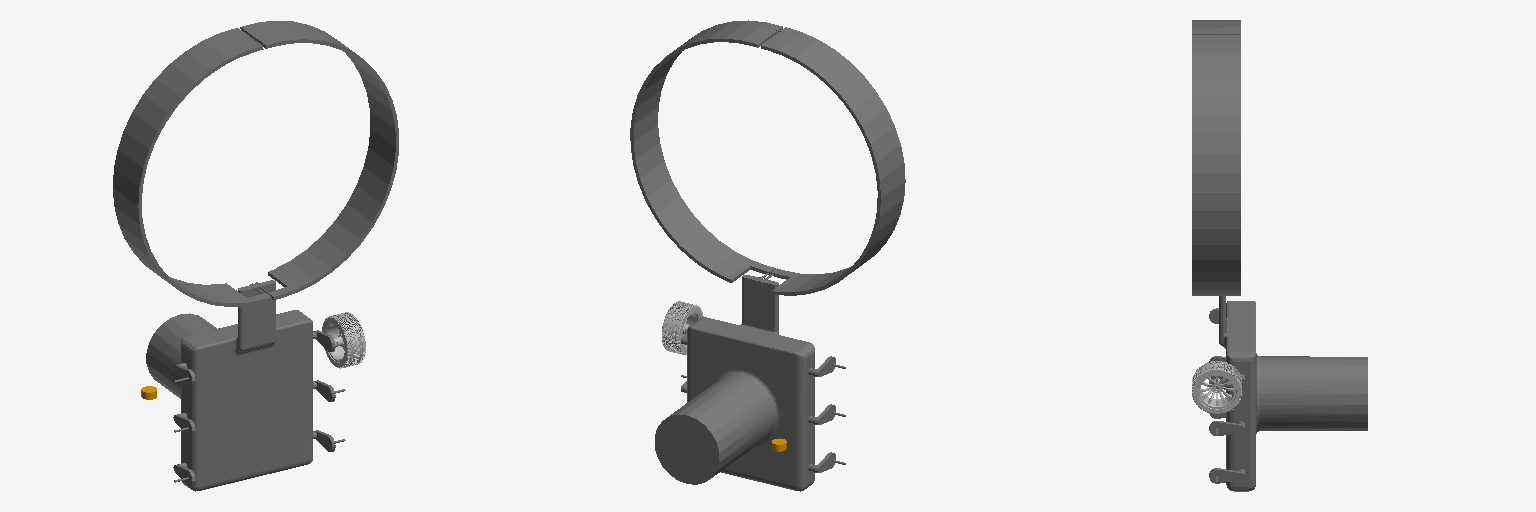
The robot description file, URDF, robot "ballpicker":
<?xml version="1.0" encoding="utf-8"?>
<!-- This URDF was automatically created by SolidWorks to URDF Exporter! Originally created by [author] ([email redacted]) 
     Commit Version: 1.6.0-4-g7f85cfe  Build Version: 1.6.7995.38578
     For more information, please see http://wiki.ros.org/sw_urdf_exporter -->
<robot
  name="ballpicker">
  <link name="base_footprint">
    <visual>
      <geometry>
        <cylinder length="0.01" radius="0.01"/>
      </geometry>
    </visual>
  </link>
  <link
    name="Car_link">
    <inertial>
      <origin
        xyz="0.0 0.0 0.00553332226051508"
        rpy="0 0 0" />
      <mass
        value="5.0" />
      <inertia
        ixx="0.110749906707375"
        ixy="-1.75365410957896E-07"
        ixz="7.93049790205434E-09"
        iyy="0.0835173634719432"
        iyz="0.00145400864608235"
        izz="0.0979369174058086" />
    </inertial>
    <visual>
      <origin
        xyz="0 0 0"
        rpy="0 0 0" />
      <geometry>
        <mesh
          filename="package://ballpicker/meshes/Car_link.STL" />
      </geometry>
      <material
        name="">
        <color
          rgba="0.498039215686275 0.498039215686275 0.498039215686275 1" />
      </material>
    </visual>
    <collision>
      <origin
        xyz="0 0 0"
        rpy="0 0 0" />
      <geometry>
        <mesh
          filename="package://ballpicker/meshes/Car_link.STL" />
      </geometry>
    </collision>
  </link>
  <joint name="base_to_car" type="fixed">
    <origin xyz="0 -0.09 0" rpy="0 0 0"/>
    <parent link="base_footprint"/>
    <child link="Car_link"/>
  </joint>
  <link
    name="LF_Wheel">
    <inertial>
      <origin
        xyz="-0.00153990775115265 4.84133740041859E-10 6.48850088241781E-10"
        rpy="0 0 0" />
      <mass
        value="0.0351748276981348" />
      <inertia
        ixx="2.57858861550238E-05"
        ixy="5.38669622852653E-14"
        ixz="5.95956619934724E-14"
        iyy="1.52375713168355E-05"
        iyz="-2.31104481825362E-10"
        izz="1.5236691208538E-05" />
    </inertial>
    <visual>
      <origin
        xyz="0 0 0"
        rpy="0 0 0" />
      <geometry>
        <mesh
          filename="package://ballpicker/meshes/LF_Wheel.STL" />
      </geometry>
      <material
        name="">
        <color
          rgba="0.752941176470588 0.752941176470588 0.752941176470588 1" />
      </material>
    </visual>
    <collision>
      <origin
        xyz="0 0 0"
        rpy="0 0 0" />
      <geometry>
        <mesh
          filename="package://ballpicker/meshes/LF_Wheel.STL" />
      </geometry>
    </collision>
  </link>
  <joint
    name="LF_Wheel_Cont"
    type="continuous">
    <origin
      xyz="0.21777 -0.029518 0.071531"
      rpy="0 0 0" />
    <parent
      link="Car_link" />
    <child
      link="LF_Wheel" />
    <axis
      xyz="1 0 0" />
  </joint>
  <!-- 
  <link
    name="LM_Wheel">
    <inertial>
      <origin
        xyz="-0.00153990775115259 4.84133802491904E-10 6.48850057016759E-10"
        rpy="0 0 0" />
      <mass
        value="0.0351748276981348" />
      <inertia
        ixx="2.57858861550239E-05"
        ixy="5.38669741639358E-14"
        ixz="5.9595642988137E-14"
        iyy="1.52375713168356E-05"
        iyz="-2.31104481826999E-10"
        izz="1.5236691208538E-05" />
    </inertial>
    <visual>
      <origin
        xyz="0 0 0"
        rpy="0 0 0" />
      <geometry>
        <mesh
          filename="package://ballpicker/meshes/LM_Wheel.STL" />
      </geometry>
      <material
        name="">
        <color
          rgba="0.752941176470588 0.752941176470588 0.752941176470588 1" />
      </material>
    </visual>
    <collision>
      <origin
        xyz="0 0 0"
        rpy="0 0 0" />
      <geometry>
        <mesh
          filename="package://ballpicker/meshes/LM_Wheel.STL" />
      </geometry>
    </collision>
  </link>
  <joint
    name="LM_Wheel_Cont"
    type="continuous">
    <origin
      xyz="0.21777 -0.029518 0.0015309"
      rpy="0 0 0" />
    <parent
      link="Car_link" />
    <child
      link="LM_Wheel" />
    <axis
      xyz="1 0 0" />
    <mimic
      joint="LF_Wheel_Cont"
      multiplier="1"
      offset="0" /> 
  </joint>-->
  <link
    name="LB_Wheel">
    <inertial>
      <origin
        xyz="-0.00153990775115259 4.84133726164071E-10 6.48849862727729E-10"
        rpy="0 0 0" />
      <mass
        value="0.0351748276981345" />
      <inertia
        ixx="2.57858861550237E-05"
        ixy="5.38669869547035E-14"
        ixz="5.95956547741387E-14"
        iyy="1.52375713168355E-05"
        iyz="-2.3110448177996E-10"
        izz="1.52366912085378E-05" />
    </inertial>
    <visual>
      <origin
        xyz="0 0 0"
        rpy="0 0 0" />
      <geometry>
        <mesh
          filename="package://ballpicker/meshes/LB_Wheel.STL" />
      </geometry>
      <material
        name="">
        <color
          rgba="0.752941176470588 0.752941176470588 0.752941176470588 1" />
      </material>
    </visual>
    <collision>
      <origin
        xyz="0 0 0"
        rpy="0 0 0" />
      <geometry>
        <mesh
          filename="package://ballpicker/meshes/LB_Wheel.STL" />
      </geometry>
    </collision>
  </link>
  <joint
    name="LB_Wheel_Cont"
    type="continuous">
    <origin
      xyz="0.21777 -0.029518 -0.068469"
      rpy="0 0 0" />
    <parent
      link="Car_link" />
    <child
      link="LB_Wheel" />
    <axis
      xyz="1 0 0" />
    <mimic
      joint="LF_Wheel_Cont"
      multiplier="1"
      offset="0" />
  </joint>
  <link
    name="RF_Wheel">
    <inertial>
      <origin
        xyz="0.00153990775115213 -6.83017375296968E-10 4.1886908525024E-10"
        rpy="0 0 0" />
      <mass
        value="0.0351748276980535" />
      <inertia
        ixx="2.57858861550147E-05"
        ixy="7.86864505417938E-14"
        ixz="-3.65804412588572E-14"
        iyy="1.52373068430096E-05"
        iyz="4.65003743546124E-10"
        izz="1.52369556823478E-05" />
    </inertial>
    <visual>
      <origin
        xyz="0 0 0"
        rpy="0 0 0" />
      <geometry>
        <mesh
          filename="package://ballpicker/meshes/RF_Wheel.STL" />
      </geometry>
      <material
        name="">
        <color
          rgba="0.752941176470588 0.752941176470588 0.752941176470588 1" />
      </material>
    </visual>
    <collision>
      <origin
        xyz="0 0 0"
        rpy="0 0 0" />
      <geometry>
        <mesh
          filename="package://ballpicker/meshes/RF_Wheel.STL" />
      </geometry>
    </collision>
  </link>
  <joint
    name="RF_Wheel_Cont"
    type="continuous">
    <origin
      xyz="-0.03173 -0.029518 0.071531"
      rpy="0 0 0" />
    <parent
      link="Car_link" />
    <child
      link="RF_Wheel" />
    <axis
      xyz="1 0 0" />
  </joint>
  <!-- 
  <link
    name="RM_Wheel">
    <inertial>
      <origin
        xyz="0.00153990775115211 -6.83017403052544E-10 4.18868884022316E-10"
        rpy="0 0 0" />
      <mass
        value="0.0351748276980535" />
      <inertia
        ixx="2.57858861550147E-05"
        ixy="7.86864660113413E-14"
        ixz="-3.6580443692086E-14"
        iyy="1.52373068430096E-05"
        iyz="4.65003743631836E-10"
        izz="1.52369556823478E-05" />
    </inertial>
    <visual>
      <origin
        xyz="0 0 0"
        rpy="0 0 0" />
      <geometry>
        <mesh
          filename="package://ballpicker/meshes/RM_Wheel.STL" />
      </geometry>
      <material
        name="">
        <color
          rgba="0.752941176470588 0.752941176470588 0.752941176470588 1" />
      </material>
    </visual>
    <collision>
      <origin
        xyz="0 0 0"
        rpy="0 0 0" />
      <geometry>
        <mesh
          filename="package://ballpicker/meshes/RM_Wheel.STL" />
      </geometry>
    </collision>
  </link>
  <joint
    name="RM_Wheel_Cont"
    type="continuous">
    <origin
      xyz="-0.03173 -0.029518 0.0015309"
      rpy="0 0 0" />
    <parent
      link="Car_link" />
    <child
      link="RM_Wheel" />
    <axis
      xyz="1 0 0" />
    <mimic
      joint="RF_Wheel_Cont"
      multiplier="1"
      offset="0" />
  </joint> -->
  <link
    name="RB_Wheel">
    <inertial>
      <origin
        xyz="0.00153990775115216 -6.83017496727611E-10 4.18868828511165E-10"
        rpy="0 0 0" />
      <mass
        value="0.0351748276980541" />
      <inertia
        ixx="2.57858861550151E-05"
        ixy="7.8686446012487E-14"
        ixz="-3.65804272639864E-14"
        iyy="1.52373068430098E-05"
        iyz="4.65003743568956E-10"
        izz="1.52369556823481E-05" />
    </inertial>
    <visual>
      <origin
        xyz="0 0 0"
        rpy="0 0 0" />
      <geometry>
        <mesh
          filename="package://ballpicker/meshes/RB_Wheel.STL" />
      </geometry>
      <material
        name="">
        <color
          rgba="0.752941176470588 0.752941176470588 0.752941176470588 1" />
      </material>
    </visual>
    <collision>
      <origin
        xyz="0 0 0"
        rpy="0 0 0" />
      <geometry>
        <mesh
          filename="package://ballpicker/meshes/RB_Wheel.STL" />
      </geometry>
    </collision>
  </link>
  <joint
    name="RB_Wheel_Cont"
    type="continuous">
    <origin
      xyz="-0.03173 -0.029518 -0.068469"
      rpy="0 0 0" />
    <parent
      link="Car_link" />
    <child
      link="RB_Wheel" />
    <axis
      xyz="1 0 0" />
    <mimic
      joint="RF_Wheel_Cont"
      multiplier="1"
      offset="0" />
  </joint>
  <gazebo reference="RB_Wheel">
            <mu1>0.0</mu1>
            <mu2>0</mu2>
            <kp>10000000.0</kp>
            <kd>10.0</kd>
            <fdir1>0 0.0 1.0</fdir1>
          <dynamics damping="0.7" friction="0" />  
            <slip1>0</slip1>
            <slip2>0</slip2>
            
  </gazebo>
  <gazebo reference="RF_Wheel">
            <mu1>1.0</mu1>
            <mu2>0.5</mu2>
            <kp>10000000.0</kp>
            <kd>10.0</kd>
            <fdir1>0 0.0 1.0</fdir1>
          <dynamics damping="0.7" friction="10.0" />
            <slip1>0</slip1>
            <slip2>0</slip2>
            
  </gazebo>
  <gazebo reference="LB_Wheel">
            <mu1>0.0</mu1>
            <mu2>0</mu2>
            <kp>10000000.0</kp>
            <kd>10.0</kd>
            <fdir1>0 0.0 1.0</fdir1>
          <dynamics damping="0.7" friction="0" />  
            <slip1>0</slip1>
            <slip2>0</slip2>
            
  </gazebo>
  <gazebo reference="LF_Wheel">
            <mu1>1.0</mu1>
            <mu2>0.5</mu2>
            <kp>10000000.0</kp>
            <kd>10.0</kd>
            <fdir1>0 0.0 1.0</fdir1>
          <dynamics damping="0.7" friction="100.0" /> 
            <slip1>0</slip1>
            <slip2>0</slip2>
            
  </gazebo>
  <link
    name="Claw_Right">
    <inertial>
      <origin
        xyz="-0.127197064731162 -0.0158052215751697 0.179817108241744"
        rpy="0 0 0" />
      <mass
        value="0.234822404065573" />
      <inertia
        ixx="0.00376947183179376"
        ixy="8.23160335735902E-06"
        ixz="-6.43273841267378E-05"
        iyy="0.00439057756261837"
        iyz="-1.2742343183228E-05"
        izz="0.000787891659954531" />
    </inertial>
    <visual>
      <origin
        xyz="0 0 0"
        rpy="0 0 0" />
      <geometry>
        <mesh
          filename="package://ballpicker/meshes/Claw_Right.STL" />
      </geometry>
      <material
        name="">
        <color
          rgba="0.498039215686275 0.498039215686275 0.498039215686275 1" />
      </material>
    </visual>
    <collision>
      <origin
        xyz="0 0 0"
        rpy="0 0 0" />
      <geometry>
        <mesh
          filename="package://ballpicker/meshes/Claw_Right.STL" />
      </geometry>
    </collision>
  </link>
  <joint
    name="Claw_Right_J"
    type="revolute">
    <origin
      xyz="0.08952 -0.015018 0.17203"
      rpy="0 0 0" />
    <parent
      link="Car_link" />
    <child
      link="Claw_Right" />
    <axis
      xyz="0 1 0" />
    <limit
      lower="-3.14"
      upper="3.14"
      effort="1000"
      velocity="1" />
  </joint>
  <link
    name="Claw_Left">
    <inertial>
      <origin
        xyz="0.114626073328396 -0.0158052215751698 0.188080166434317"
        rpy="0 0 0" />
      <mass
        value="0.234822404065573" />
      <inertia
        ixx="0.00374681789269306"
        ixy="-7.34261156340594E-06"
        ixz="0.000266775836666619"
        iyy="0.0043905775626186"
        iyz="-1.32745116317314E-05"
        izz="0.000810545599055451" />
    </inertial>
    <visual>
      <origin
        xyz="0 0 0"
        rpy="0 0 0" />
      <geometry>
        <mesh
          filename="package://ballpicker/meshes/Claw_Left.STL" />
      </geometry>
      <material
        name="">
        <color
          rgba="0.498039215686275 0.498039215686275 0.498039215686275 1" />
      </material>
    </visual>
    <collision>
      <origin
        xyz="0 0 0"
        rpy="0 0 0" />
      <geometry>
        <mesh
          filename="package://ballpicker/meshes/Claw_Left.STL" />
      </geometry>
    </collision>
  </link>
  <joint
    name="Claw_Left_J"
    type="revolute">
    <origin
      xyz="0.09652 -0.015018 0.17203"
      rpy="0 0 0" />
    <parent
      link="Car_link" />
    <child
      link="Claw_Left" />
    <axis
      xyz="0 1 0" />
    <limit
      lower="-3.14"
      upper="3.14"
      effort="1000"
      velocity="1" />
  </joint>

  <joint name="hokuyo_joint" type="fixed">
    <axis xyz="0 0 1" />
    <origin xyz="0.1 0.01 0" rpy="-1.57 0 0"/>
    <parent link="Car_link"/>
    <child link="hokuyo_link"/>
  </joint>

  <!-- Hokuyo Laser -->
  <link name="hokuyo_link">
    <collision>
      <origin xyz="0 0 0" rpy="0 0 0"/>
      <geometry>
    <box size="0.1 0.1 0.1"/>
      </geometry>
    </collision>

    <visual>
      <origin xyz="0 0 0" rpy="0 0 0"/>
      <geometry>
        <mesh filename="package://ballpicker/meshes/hokuyo.dae"/>
      </geometry>
    </visual>

    <inertial>
      <mass value="1e-5" />
      <origin xyz="0 0 0" rpy="0 0 0"/>
      <inertia ixx="1e-6" ixy="0" ixz="0" iyy="1e-6" iyz="0" izz="1e-6" />
    </inertial>
  </link>
  <gazebo reference="hokuyo_link">
    <sensor type="ray" name="head_hokuyo_sensor">
      <pose>0 0 0 0 0 0</pose>
      <visualize>true</visualize>
      <update_rate>40</update_rate>
      <ray>
        <scan>
          <horizontal>
            <samples>720</samples>
            <resolution>1</resolution>
            <min_angle>-3.14159</min_angle>
            <max_angle>3.14159</max_angle>
          </horizontal>
        </scan>
        <range>
          <min>0.2</min>
          <max>40</max>
          <resolution>0.025</resolution>
        </range>
        <noise>
          <type>gaussian</type>
          <!-- Noise parameters based on published spec for Hokuyo laser
               achieving "+-30mm" accuracy at range < 10m.  A mean of 0.0m and
               stddev of 0.01m will put 99.7% of samples within 0.03m of the true
               reading. -->
          <mean>0.0</mean>
          <stddev>0.00</stddev>
        </noise>
      </ray>
      <plugin name="gazebo_ros_head_hokuyo_controller" filename="libgazebo_ros_laser.so">
        <topicName>laser_scan</topicName>
        <frameName>hokuyo_link</frameName>
      </plugin>
    </sensor>
  </gazebo>

  <gazebo>
    <plugin name="skid_steer_drive_controller" filename="libgazebo_ros_skid_steer_drive.so">
      <updateRate>100.0</updateRate>
      <robotNamespace>/</robotNamespace>
      <leftFrontJoint>LF_Wheel_Cont</leftFrontJoint>
      <rightFrontJoint>RF_Wheel_Cont</rightFrontJoint>
      <leftRearJoint>LB_Wheel_Cont</leftRearJoint>
      <rightRearJoint>RB_Wheel_Cont</rightRearJoint>
      <wheelSeparation>0.210</wheelSeparation>
      <wheelDiameter>0.065</wheelDiameter>
      <robotBaseFrame>base_link</robotBaseFrame>
      <torque>40</torque>
      <topicName>cmd_vel</topicName>
      <broadcastTF>true</broadcastTF>
    </plugin>
  </gazebo> 
  <transmission name="link_1_trans">
    <type>transmission_interface/SimpleTransmission</type>
    <joint name="Claw_Left_J">
    <hardwareInterface>EffortJointInterface</hardwareInterface>
    </joint>
    <actuator name="link_1_motor">
    <hardwareInterface>EffortJointInterface</hardwareInterface> 
      <mechanicalReduction>1</mechanicalReduction>
    </actuator>
  </transmission>
  <transmission name="link_2_trans">
    <type>transmission_interface/SimpleTransmission</type>
    <joint name="Claw_Right_J">
    <hardwareInterface>EffortJointInterface</hardwareInterface>
    </joint>
    <actuator name="link_2_motor">
    <hardwareInterface>EffortJointInterface</hardwareInterface> 
      <mechanicalReduction>1</mechanicalReduction>
    </actuator>
  </transmission>
    <transmission name="link_3_trans">
    <type>transmission_interface/SimpleTransmission</type>
    <joint name="LF_Wheel_Cont">
    <hardwareInterface>hardware_interface/VelocityJointInterface</hardwareInterface>
    </joint>
    <actuator name="link_3_motor">
    <hardwareInterface>hardware_interface/VelocityJointInterface</hardwareInterface> 
      <mechanicalReduction>1</mechanicalReduction>
    </actuator>
  </transmission>
    <transmission name="link_4_trans">
    <type>transmission_interface/SimpleTransmission</type>
    <joint name="LB_Wheel_Cont">
    <hardwareInterface>hardware_interface/VelocityJointInterface</hardwareInterface>
    </joint>
    <actuator name="link_4_motor">
    <hardwareInterface>hardware_interface/VelocityJointInterface</hardwareInterface> 
      <mechanicalReduction>1</mechanicalReduction>
    </actuator>
  </transmission>
    <transmission name="link_5_trans">
    <type>transmission_interface/SimpleTransmission</type>
    <joint name="RF_Wheel_Cont">
    <hardwareInterface>hardware_interface/VelocityJointInterface</hardwareInterface>
    </joint>
    <actuator name="link_5_motor">
    <hardwareInterface>hardware_interface/VelocityJointInterface</hardwareInterface> 
      <mechanicalReduction>1</mechanicalReduction>
    </actuator>
  </transmission>
    <transmission name="link_6_trans">
    <type>transmission_interface/SimpleTransmission</type>
    <joint name="RB_Wheel_Cont">
    <hardwareInterface>hardware_interface/VelocityJointInterface</hardwareInterface>
    </joint>
    <actuator name="link_6_motor">
    <hardwareInterface>hardware_interface/VelocityJointInterface</hardwareInterface> 
      <mechanicalReduction>1</mechanicalReduction>
    </actuator>
  </transmission>
  
  <gazebo>
    <plugin name="control"
  filename="libgazebo_ros_control.so">
        <robotNamespace>/</robotNamespace>
    </plugin>
  </gazebo>
  
</robot>

--- Facts derived from the render (not from the file) ---
3 views of the same robot in one strip: view 1: azimuth 30°, elevation 25°; view 2: azimuth 150°, elevation 25°; view 3: azimuth 270°, elevation 25° (orthographic).
Model ballpicker with 9 links and 8 joints (2 revolute, 4 continuous, 2 fixed), rooted at base_footprint, posed all joints at 0.
Links seen in each view (by area): view 1: Car_link, Claw_Right, Claw_Left, LF_Wheel; view 2: Car_link, Claw_Right, Claw_Left, LF_Wheel; view 3: Car_link, Claw_Left, LF_Wheel, Claw_Right.
Boxes of the visible links, x1=… form: Car_link: x1=146, y1=280, x2=345, y2=491; Claw_Right: x1=113, y1=28, x2=271, y2=306; Claw_Left: x1=240, y1=21, x2=398, y2=299; LF_Wheel: x1=322, y1=312, x2=365, y2=368; Car_link: x1=655, y1=275, x2=845, y2=491; Claw_Right: x1=758, y1=27, x2=905, y2=295; Claw_Left: x1=630, y1=20, x2=782, y2=284; LF_Wheel: x1=662, y1=301, x2=703, y2=354; Car_link: x1=1209, y1=296, x2=1367, y2=491; Claw_Left: x1=1192, y1=35, x2=1240, y2=295; LF_Wheel: x1=1192, y1=361, x2=1241, y2=413; Claw_Right: x1=1192, y1=20, x2=1240, y2=34.
Bounding box of the posed robot: 0.3826 × 0.2365 × 0.6306 m (x, y, z).
Meshes: 8 distinct files referenced, 4 mesh visuals loaded (4 binary STL); not drawn: 4 (reference not matched to a file when rendering).
